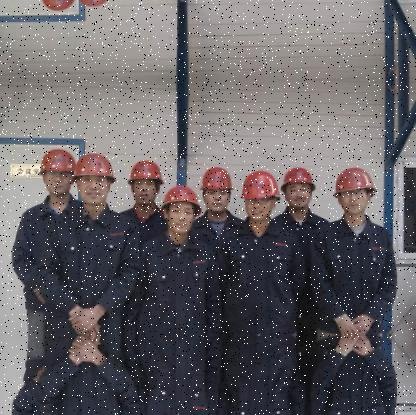helmet: (329, 164, 375, 216), (71, 150, 115, 204), (157, 181, 201, 232), (239, 169, 279, 220), (35, 146, 75, 195), (125, 156, 164, 204), (198, 162, 233, 215), (279, 162, 316, 208), (35, 0, 76, 13)
